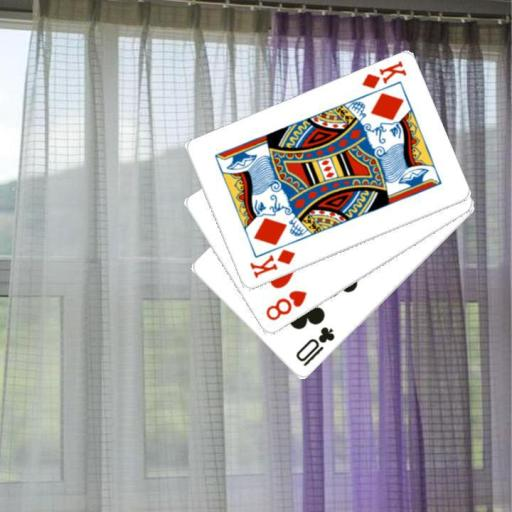10C: (293, 324, 337, 369)
8H: (262, 287, 309, 323)
KD: (246, 246, 297, 280), (359, 58, 408, 91)
